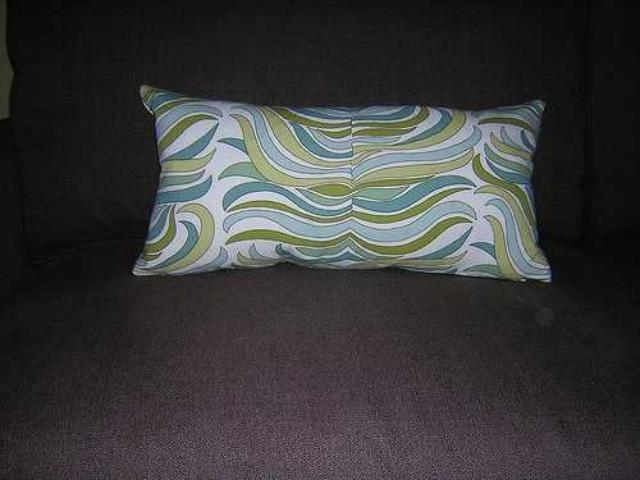pillow: (130, 82, 552, 282)
